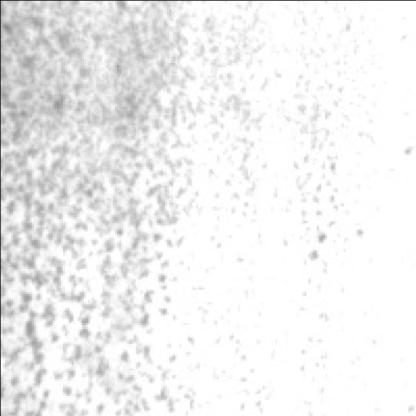pitted_surface: (4, 0, 204, 402), (208, 0, 362, 237)
